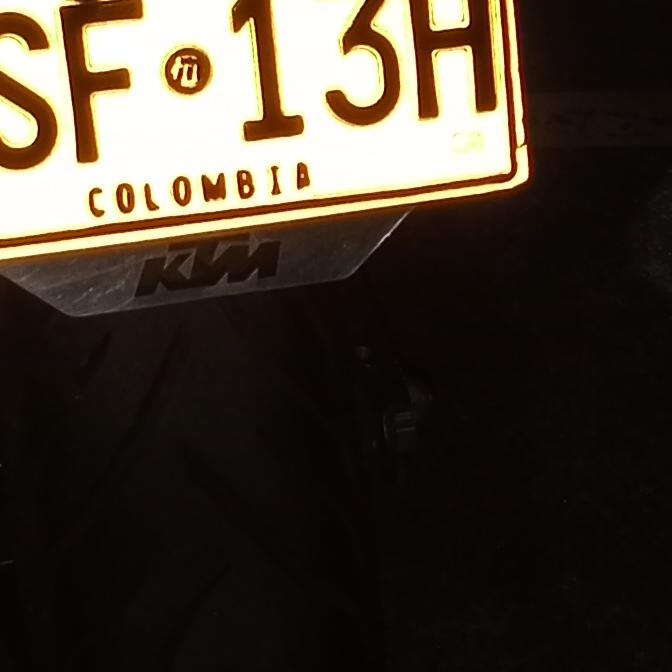plates: (0, 0, 526, 256)
